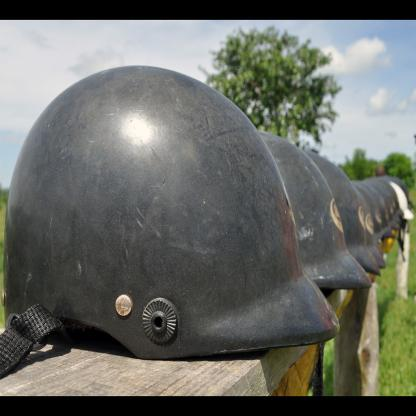Helmet: (20, 79, 376, 372), (256, 130, 376, 286), (299, 148, 377, 274), (345, 173, 416, 270)
